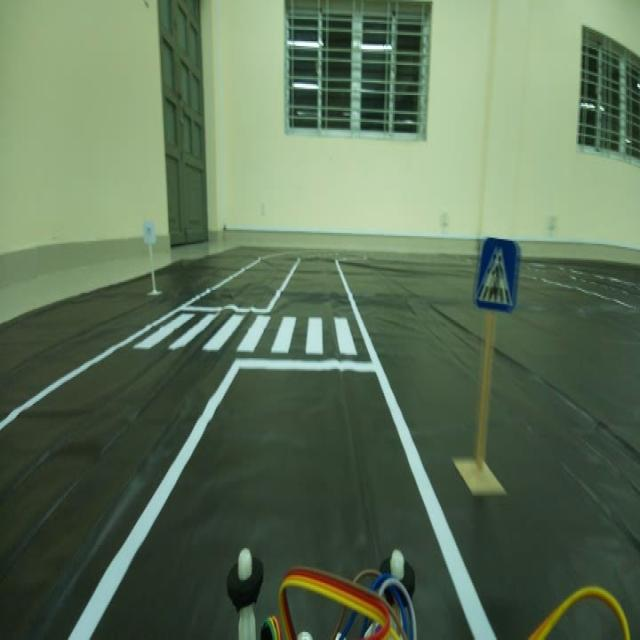crosswalk: (473, 228, 519, 314)
